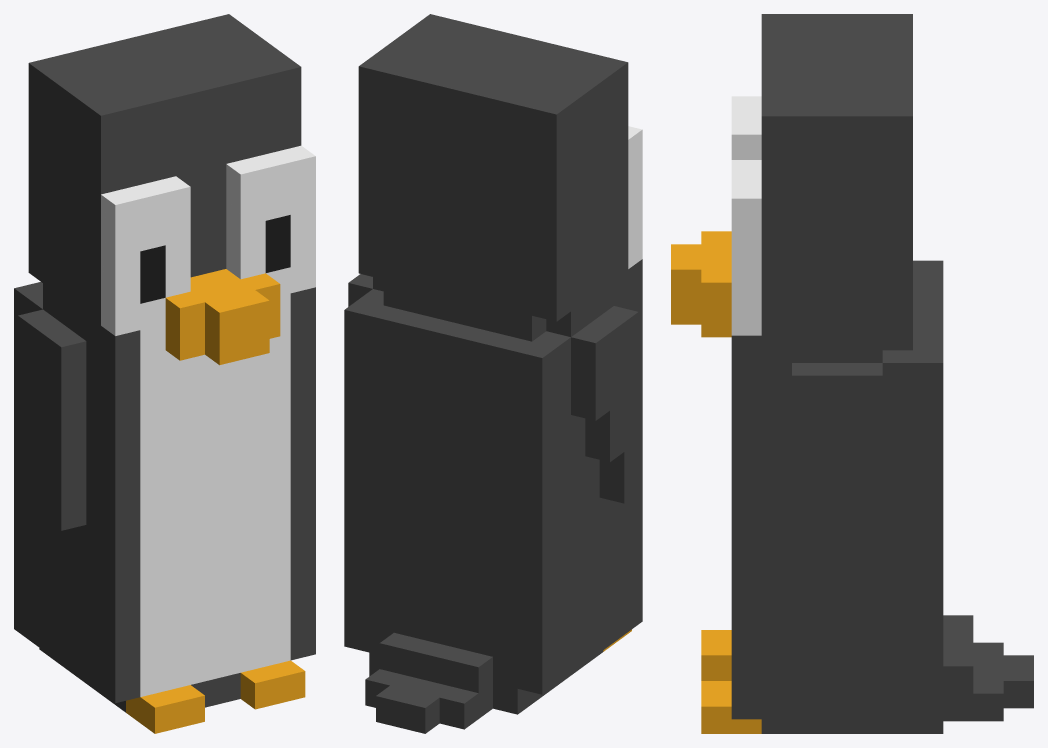
Rendered from voxel-pinguin-game-character-6a5f.glb.
3 views of the same model, side by side, from view 1: azimuth 30°, elevation 25°; view 2: azimuth 150°, elevation 25°; view 3: azimuth 270°, elevation 25° (orthographic). The views are drawn at different scales.
Visible parts, largest first — view 1: Object_2; view 2: Object_2; view 3: Object_2.
Boxes of the visible parts, x1,y1,x2,y2 form: Object_2: (14, 14, 315, 733); Object_2: (344, 14, 642, 733); Object_2: (671, 14, 1033, 733).
Bounding box in the file's own units: 10 × 23 × 12.
Materials: 1 (1 with a texture image).
